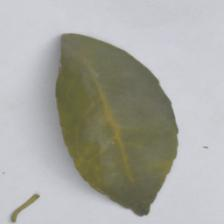greening: (51, 74, 202, 176)
